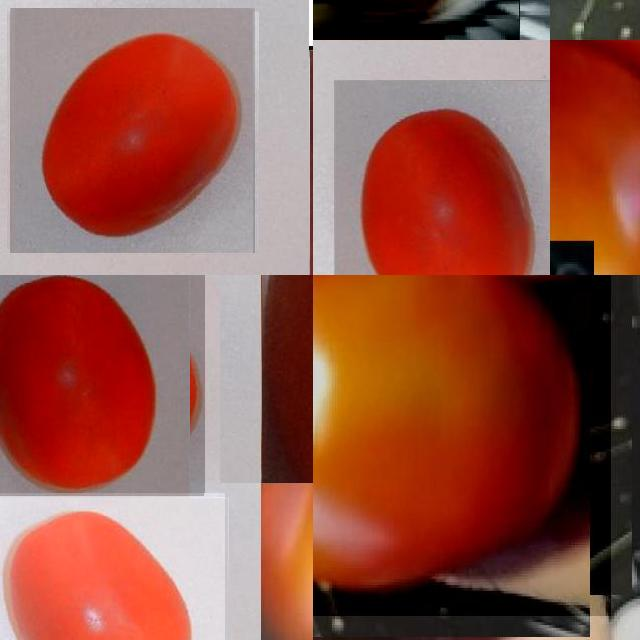Fresh Tomato: (313, 275, 611, 616), (10, 8, 255, 253), (0, 275, 204, 497), (333, 80, 550, 275), (0, 493, 225, 640), (550, 40, 640, 275)
